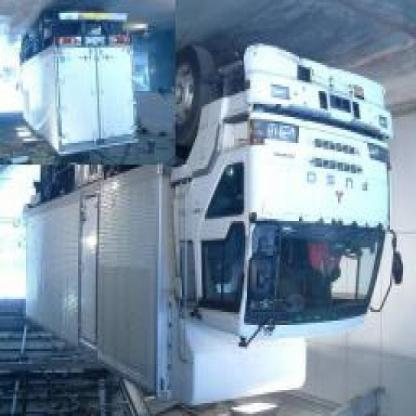truck: (27, 42, 407, 410), (19, 7, 138, 159)
